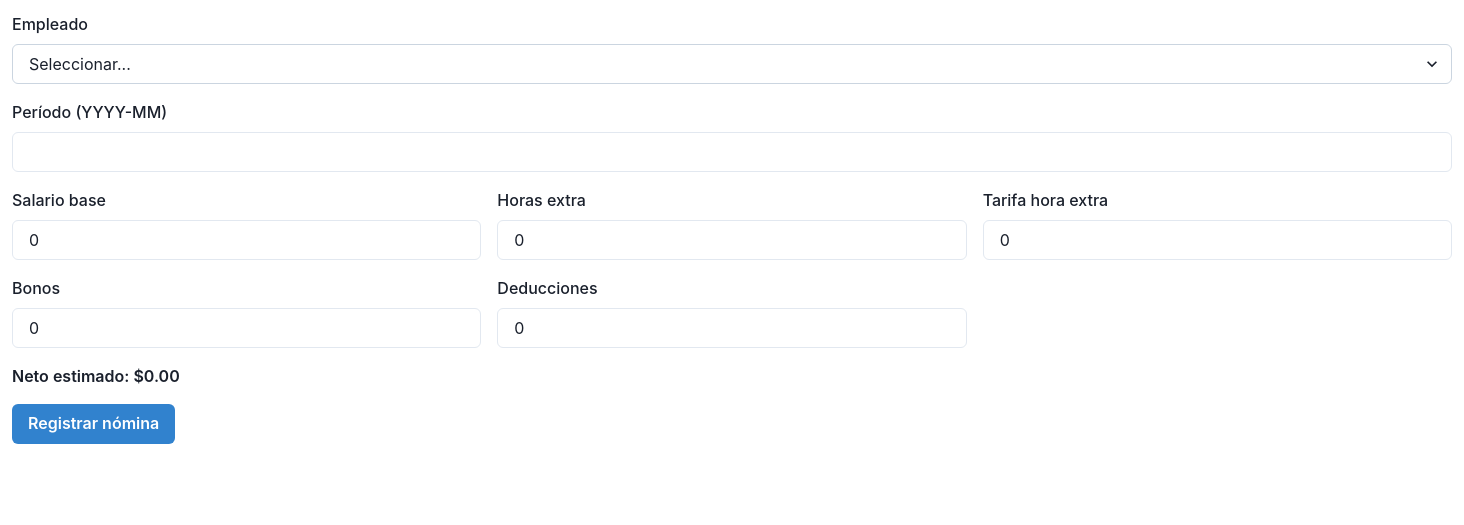
Test: PayrollForm › requires employee and period
The width and height of the screenshot is (1464, 525).
Click the button "Registrar nómina": (94, 424) [12,404,175,444]
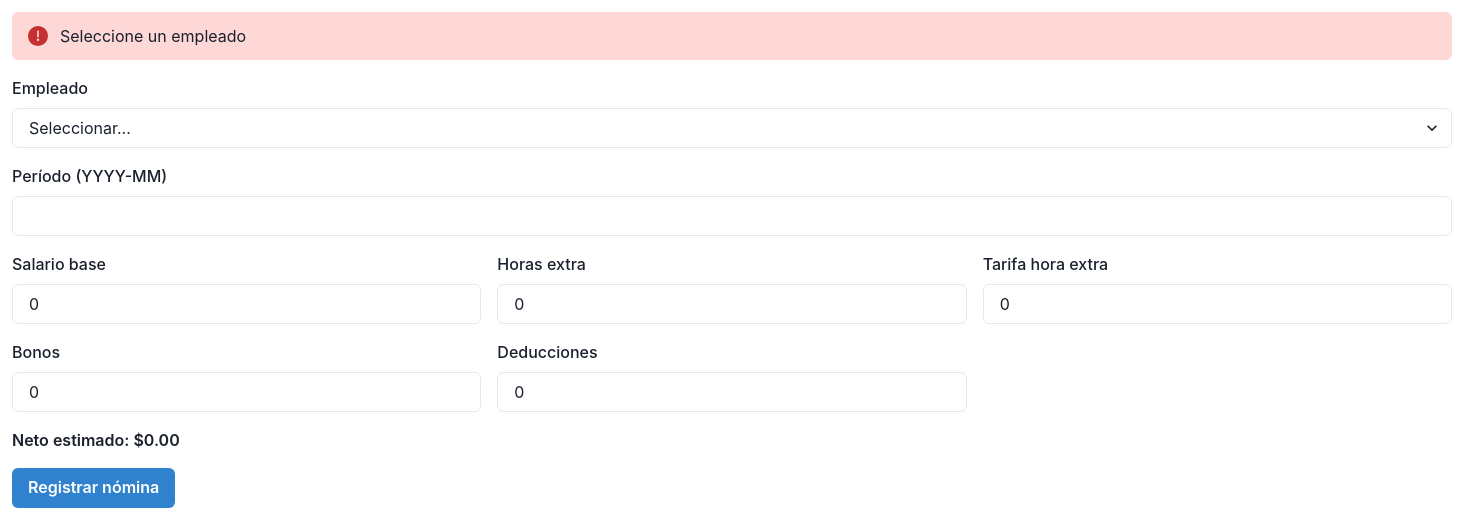
Result: the message reads "Seleccione un empleado" at [60,26,246,46]
